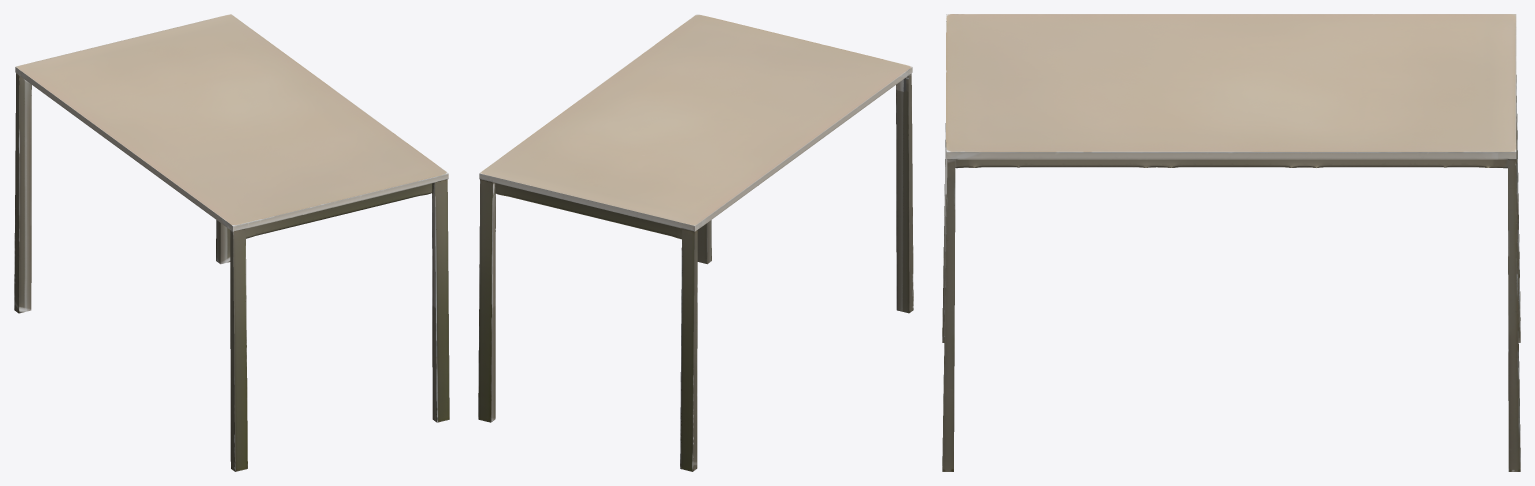
The model's file is rodin_base_basic_pbr.glb.
3 renders of one model, left to right at view 1: azimuth 30°, elevation 25°; view 2: azimuth 150°, elevation 25°; view 3: azimuth 270°, elevation 25°, orthographic. The views are drawn at different scales.
Visible parts, largest first — view 1: model; view 2: model; view 3: model.
Part boxes in pixels (<box>): model: <box>14,14,449,471</box>; model: <box>478,14,913,471</box>; model: <box>942,14,1520,471</box>.
Bounding box in the file's own units: 1.07 × 1.16 × 1.9.
Materials: 1 (1 with a texture image).
